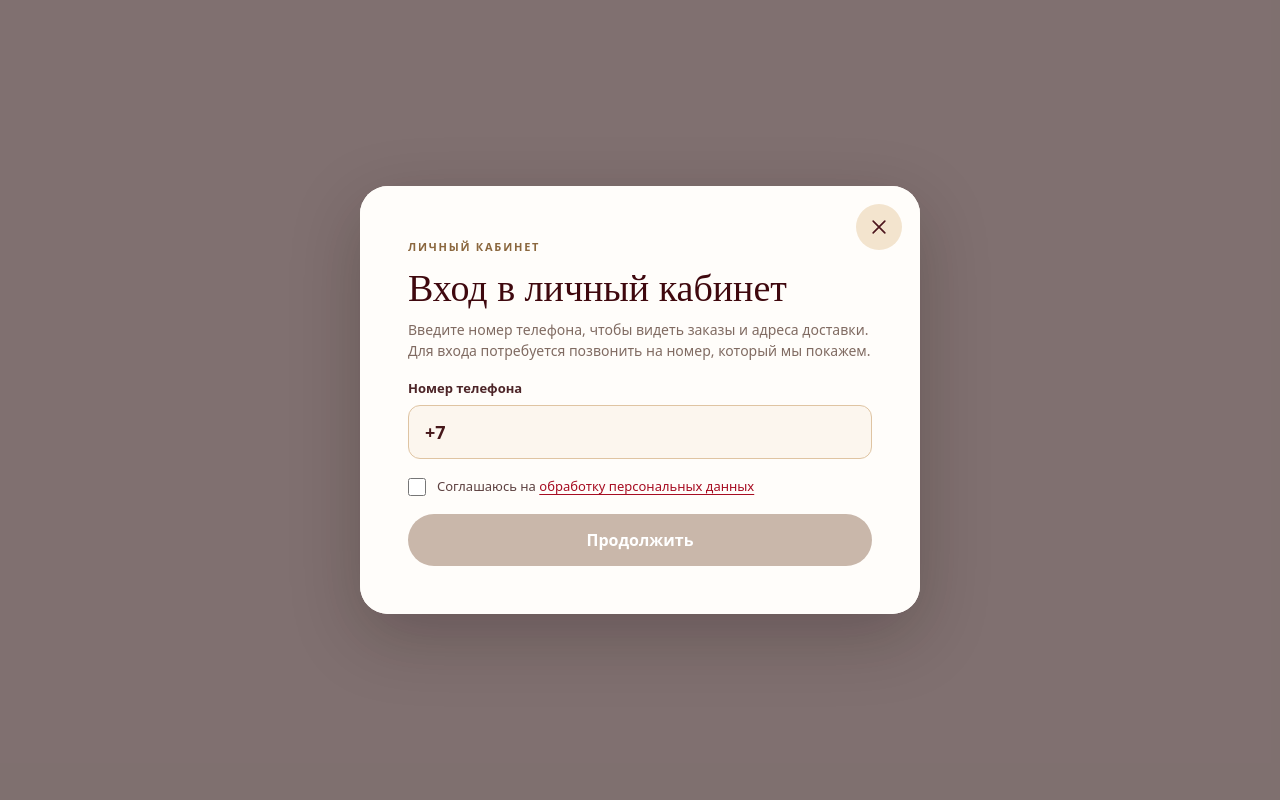
Test: pressing Enter repeatedly while registration is pending cannot create another request
Click the checkbox at (417,487), box [408, 478, 426, 496]
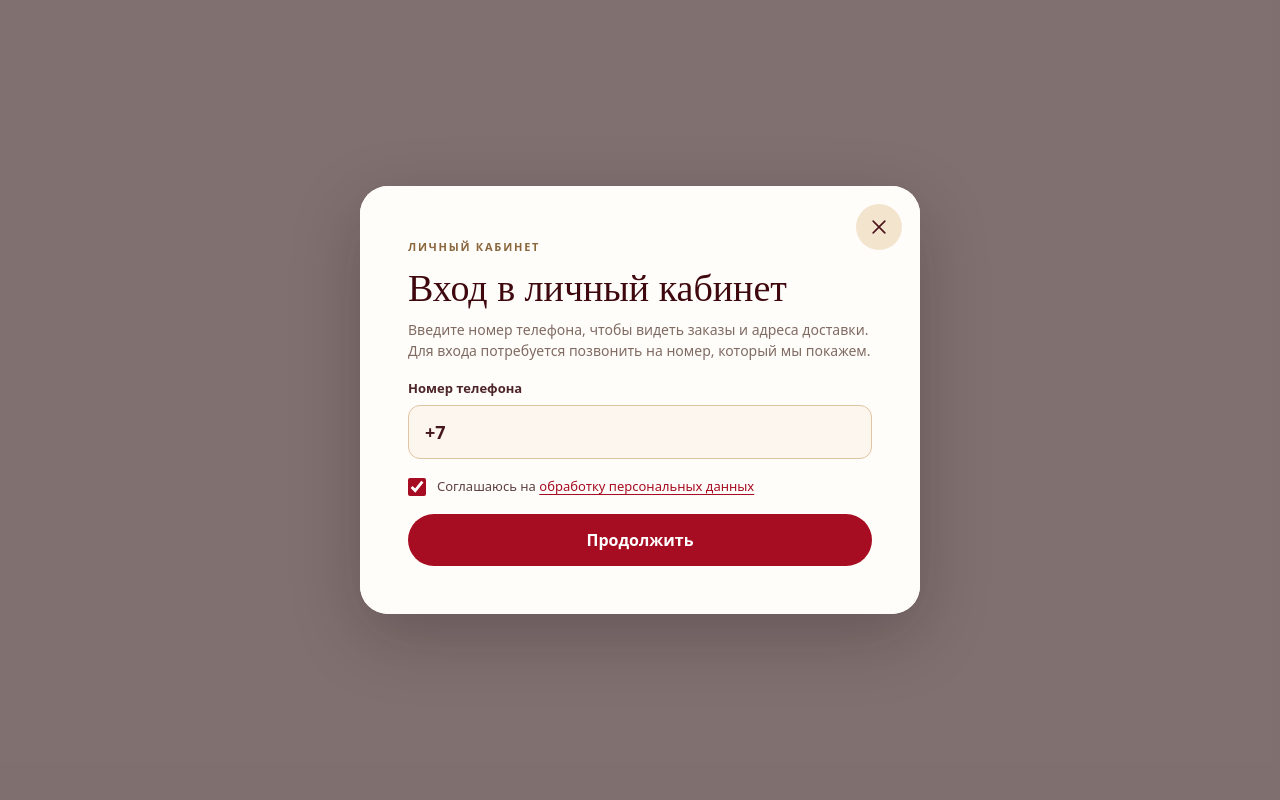
Replace the text in the field with "9991234567" at (640,432), box [408, 405, 872, 459]
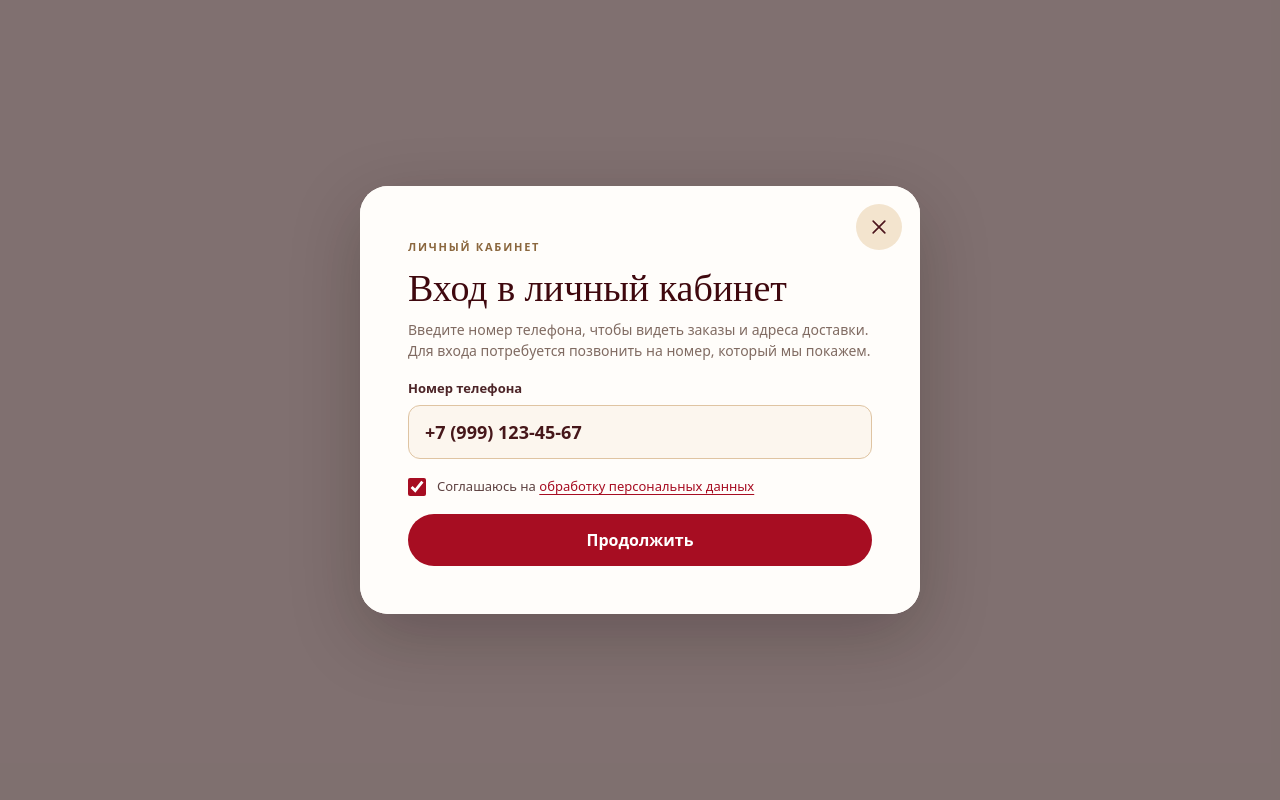
Submit the form named "Продолжить", box [408, 319, 872, 566]
Submit the form named "Продолжить", box [408, 319, 872, 566]
Submit the form named "Продолжить", box [408, 319, 872, 566]
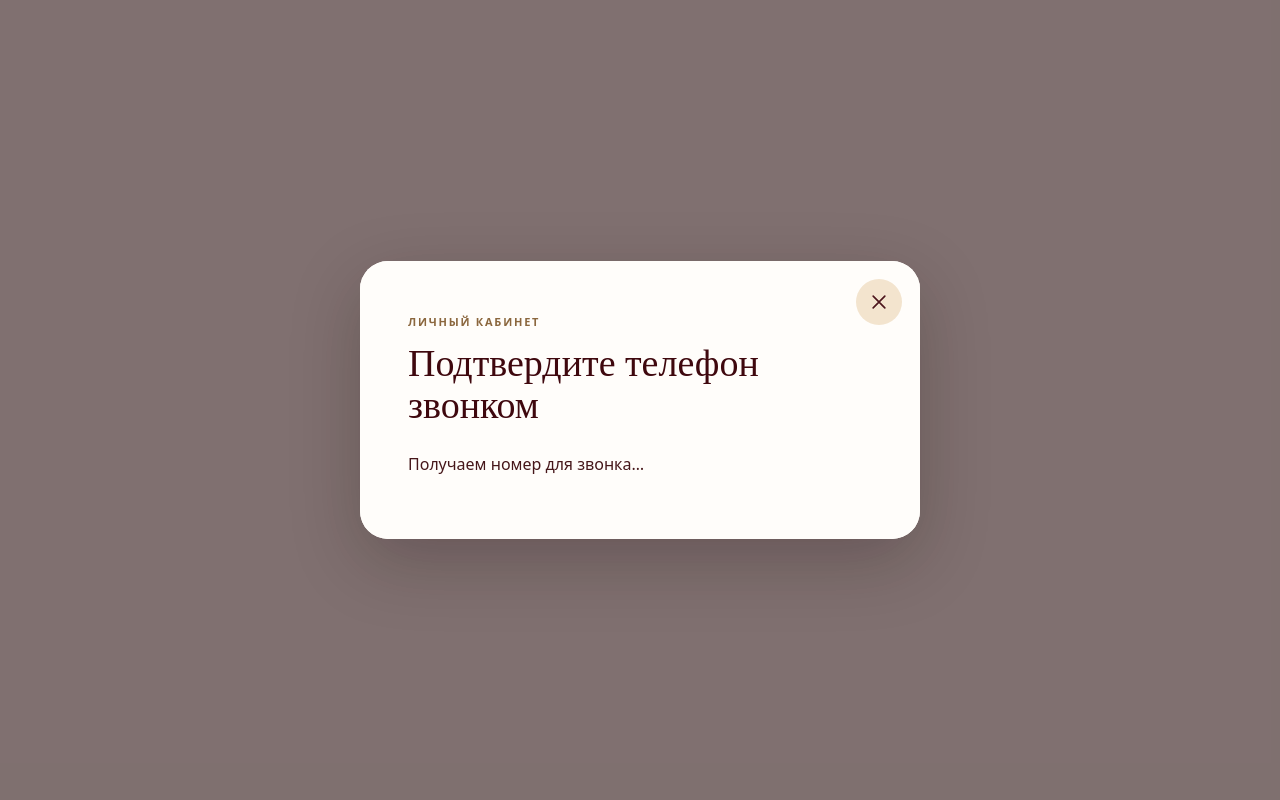
Result: the field is gone
